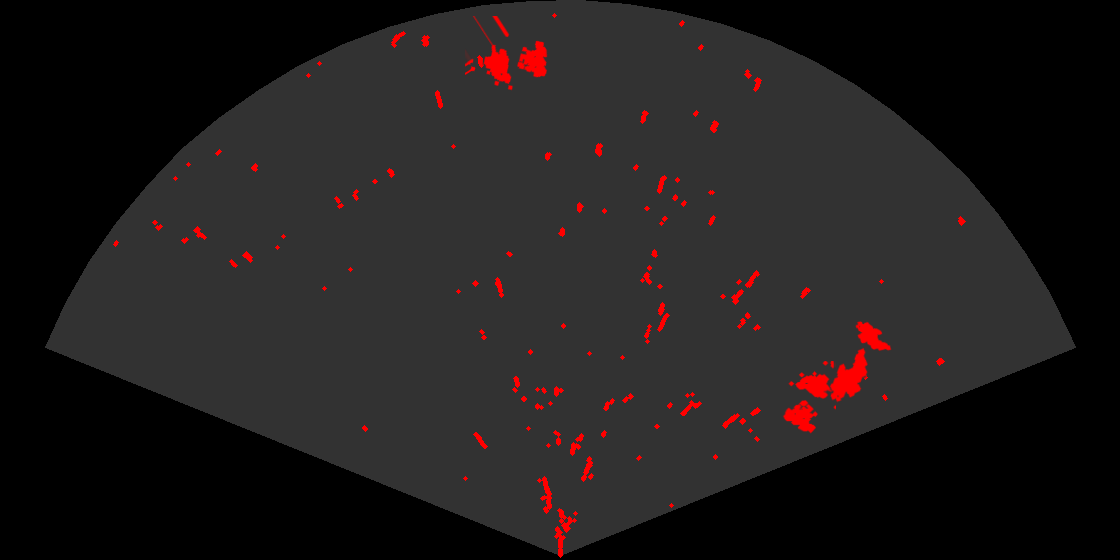AUV: (828, 346, 869, 404), (854, 320, 893, 353)
cage: (465, 16, 549, 92), (781, 361, 836, 435)
